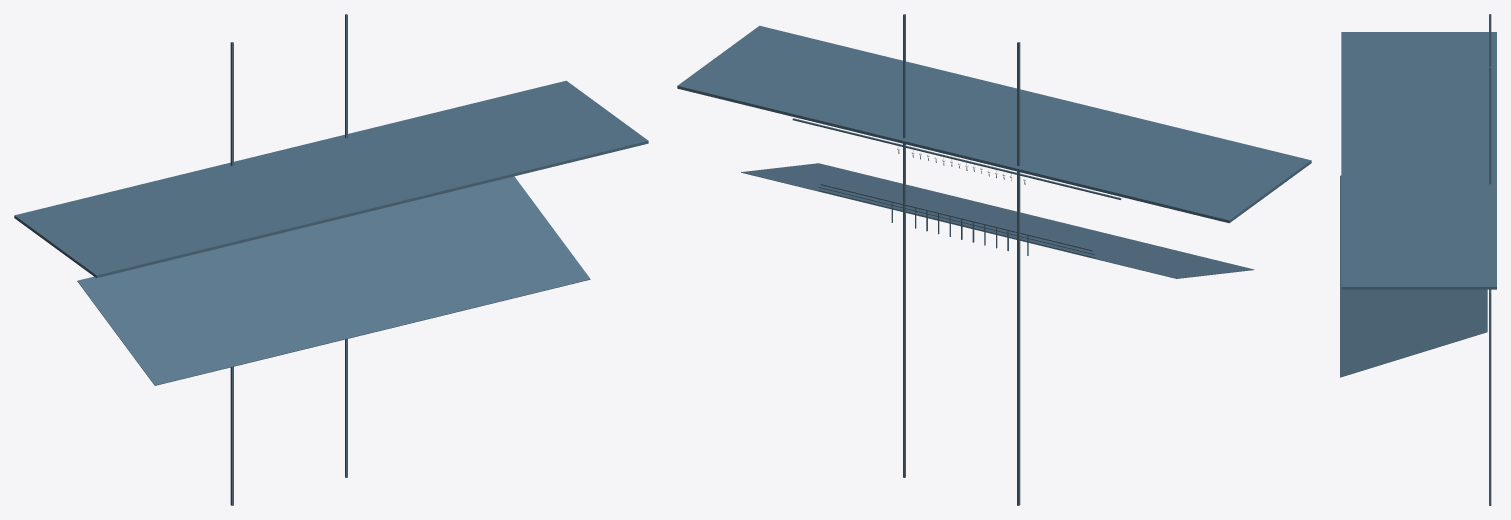
The model's file is Temple.glb.
3 views of the same model, side by side, from view 1: azimuth 30°, elevation 25°; view 2: azimuth 150°, elevation 25°; view 3: azimuth 270°, elevation 25° (orthographic). The views are drawn at different scales.
Parts seen in each view (by area): view 1: Flooring, Roof, pCube4, pCube5; view 2: Roof, Flooring, pCube4, pCube5, pCube6; view 3: Roof, Flooring, pCube5.
Part boxes in pixels (x1=…): Flooring: x1=77, y1=176, x2=590, y2=385; Roof: x1=14, y1=80, x2=648, y2=278; pCube4: x1=230, y1=42, x2=233, y2=505; pCube5: x1=345, y1=14, x2=347, y2=477; Roof: x1=677, y1=25, x2=1311, y2=223; Flooring: x1=741, y1=163, x2=1254, y2=278; pCube4: x1=1017, y1=42, x2=1020, y2=505; pCube5: x1=903, y1=14, x2=905, y2=477; pCube6: x1=792, y1=118, x2=1121, y2=199; Roof: x1=1341, y1=32, x2=1496, y2=289; Flooring: x1=1340, y1=175, x2=1487, y2=377; pCube5: x1=1489, y1=66, x2=1491, y2=505.
Size of the model in its own units: 48.5 by 38.85 by 12.6.
